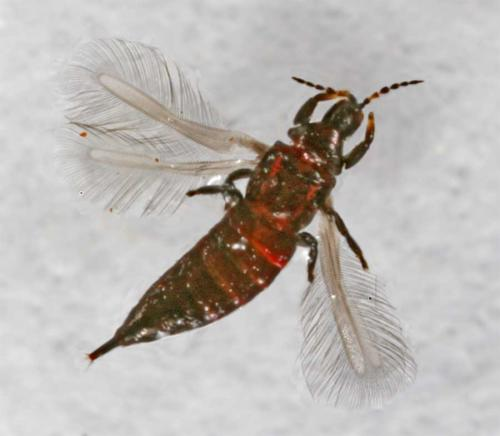Phlaeothripidae: (53, 38, 427, 412)
